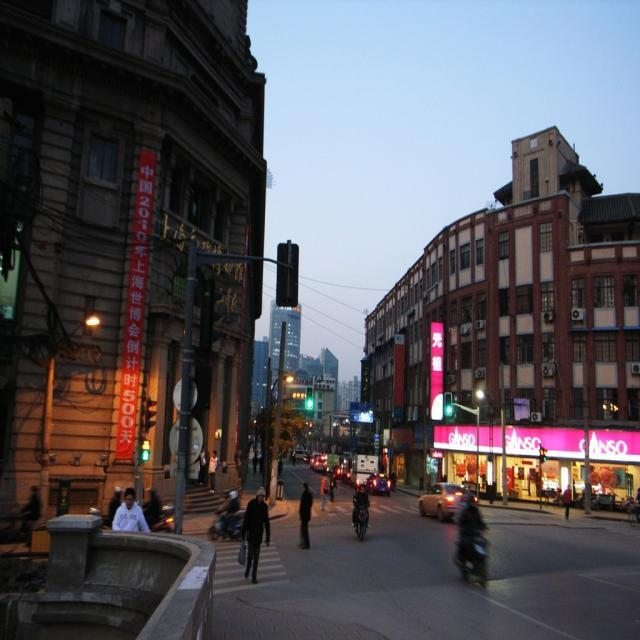traffic light: (143, 400, 159, 433), (140, 440, 150, 460), (445, 393, 452, 415)
